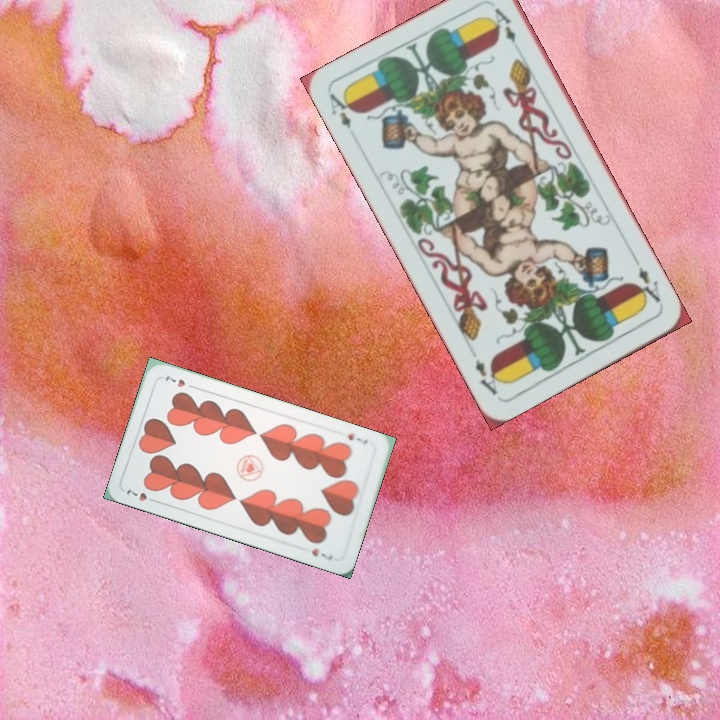EA: (630, 254, 664, 307), (325, 89, 358, 132)
H7: (122, 484, 160, 505), (343, 429, 370, 447)
